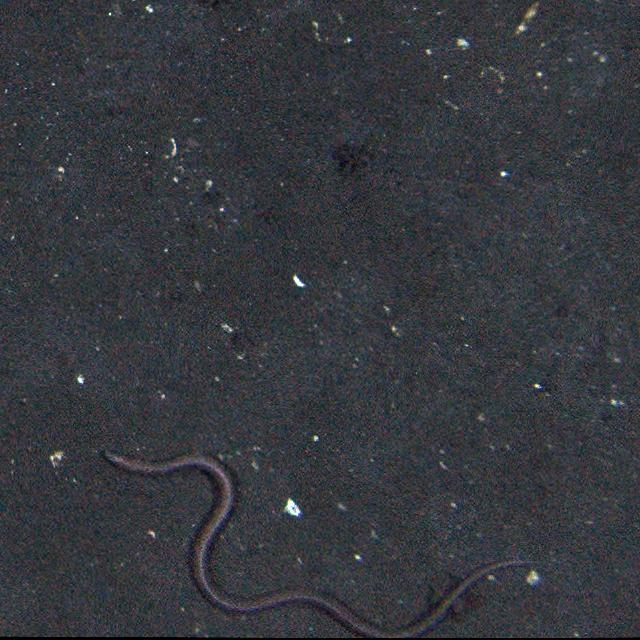eel: (102, 446, 548, 640)
